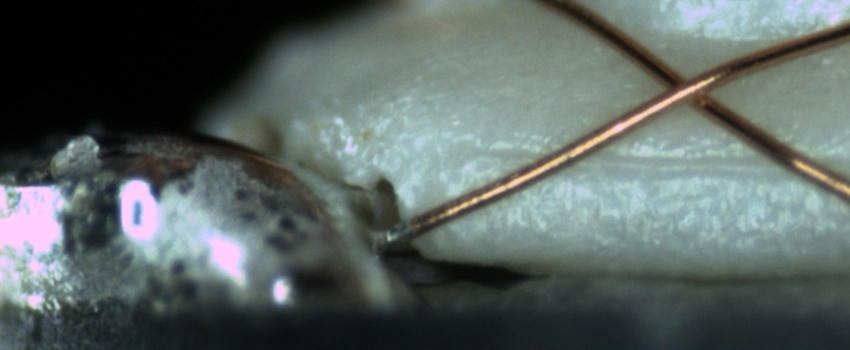CL: (639, 54, 738, 120)
DL: (461, 134, 850, 197)
TS: (377, 221, 412, 246)
